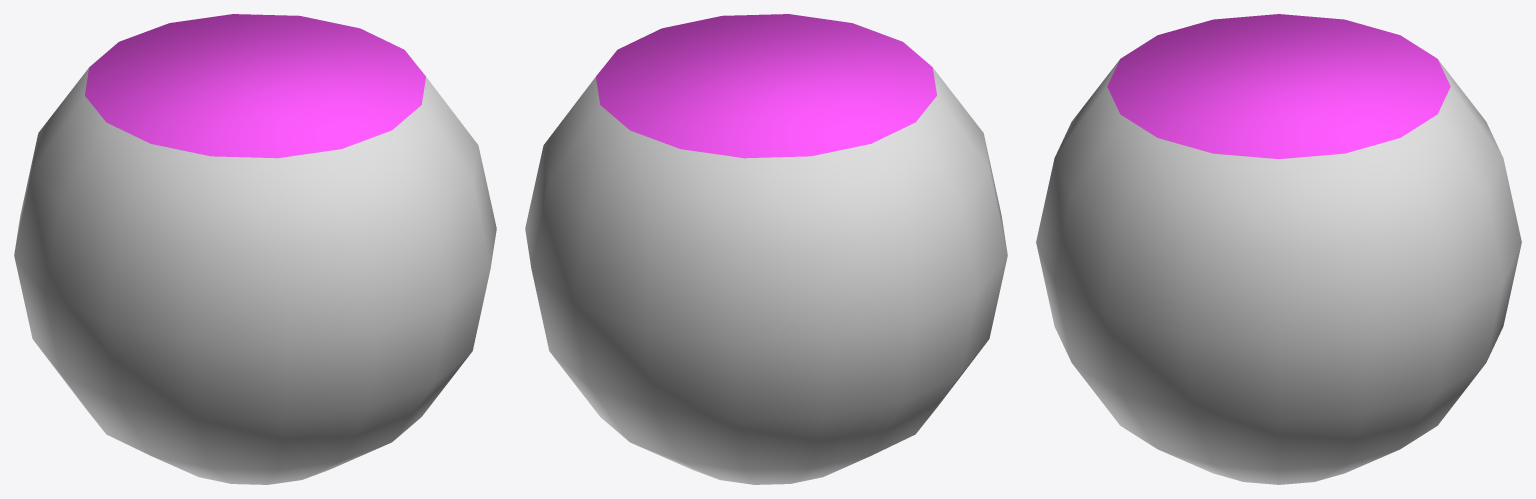
File: sphere_hole.obj
3 renders of one model, left to right at view 1: azimuth 30°, elevation 25°; view 2: azimuth 150°, elevation 25°; view 3: azimuth 270°, elevation 25°, orthographic.
Visible parts, largest first — view 1: sphere1; view 2: sphere1; view 3: sphere1.
Boxes of the visible parts, bbox=[...] form: sphere1: bbox=[14, 14, 496, 484]; sphere1: bbox=[525, 14, 1007, 484]; sphere1: bbox=[1036, 14, 1521, 484].
Bounding box in the file's own units: 2 × 1.71 × 2.
